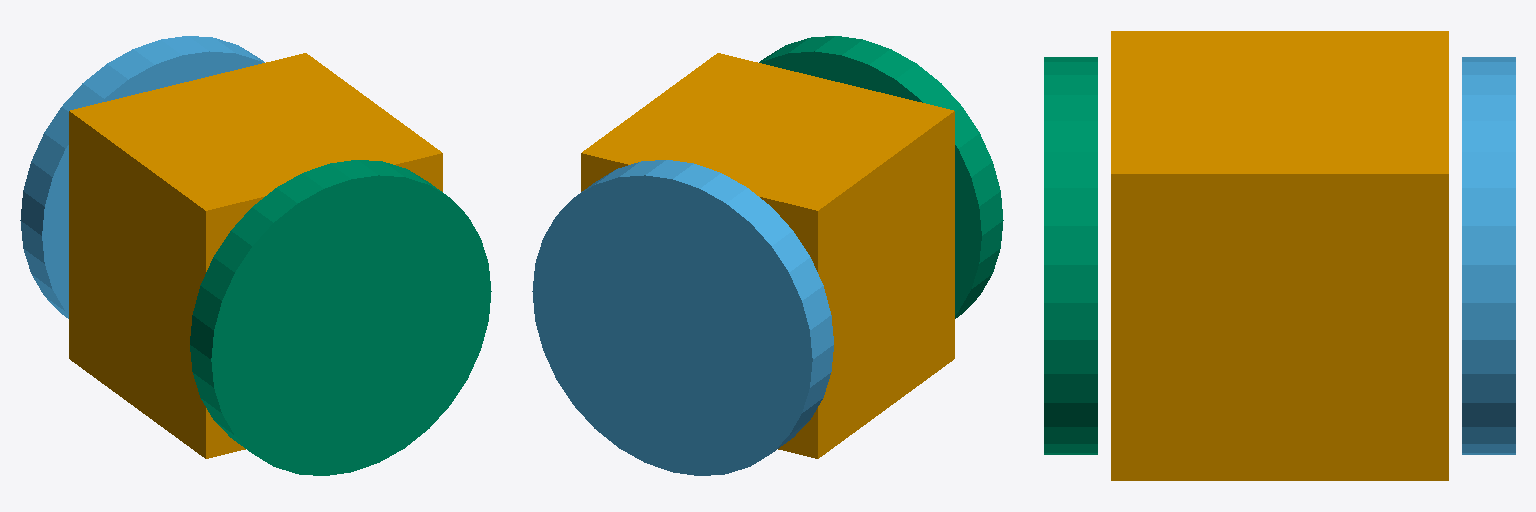
The robot description file, URDF, robot "two_wheel_robot":
<?xml version="1.0"?>

<robot name="two_wheel_robot">


<link name="body_link">
  <inertial>
    <mass value="0.03" />
    <origin xyz="0 0 0.0127" />
    <inertia ixx="0.000032258" ixy="0.0" ixz="0.0"
      iyy="0.000032258" iyz="0.0"
      izz="0.000032258" />
  </inertial>

  <visual>
    <origin xyz="0 0 0.0127" />
    <geometry>
      <box size="0.0254 0.0254 0.0254"/>
    </geometry>
  </visual>

  <collision>
    <origin xyz="0 0 0.0127" />
    <geometry>
      <box size="0.0254 0.0254 0.0254"/>
    </geometry>
  </collision>
</link>

<gazebo reference="body_link">
  <!-- tag name has to be mu1, though in gazebo they are mu and mu2 -->
  <mu1>0.1</mu1>
  <mu2>0.1</mu2>
  <material>Gazebo/Grey</material>
</gazebo>


<link name="left_wheel">
  <inertial>
    <mass value="0.002" />
    <origin xyz="0 0 0.002" />
    <inertia ixx="0.00000005659" ixy="0.0" ixz="0.0"
      iyy="0.00000005659" iyz="0.0"
      izz="0.0000001125" />
  </inertial>

  <visual>
    <origin xyz="0 0 0.002" />
    <geometry>
      <cylinder radius="0.015" length="0.004" />
    </geometry>
  </visual>

  <collision>
    <origin xyz="0 0 0.002" />
    <geometry>
      <cylinder radius="0.015" length="0.004" />
    </geometry>
  </collision>
</link>

<gazebo reference="left_wheel">
  <mu1>100</mu1>
  <mu2>50</mu2>
  <material>Gazebo/Red</material>
</gazebo>


<link name="right_wheel">
  <inertial>
    <mass value="0.002" />
    <origin xyz="0 0 0.002" />
    <inertia ixx="0.00000005659" ixy="0.0" ixz="0.0"
      iyy="0.00000005659" iyz="0.0"
      izz="0.0000001125" />
  </inertial>

  <visual>
    <origin xyz="0 0 0.002" />
    <geometry>
      <cylinder radius="0.015" length="0.004" />
    </geometry>
  </visual>

  <collision>
    <origin xyz="0 0 0.002" />
    <geometry>
      <cylinder radius="0.015" length="0.004" />
    </geometry>
  </collision>
</link>

<gazebo reference="right_wheel">
  <mu1>100</mu1>
  <mu2>50</mu2>
  <material>Gazebo/Blue</material>
</gazebo>


<joint name="left_motor" type="continuous">
  <parent link="body_link" />
  <child link="left_wheel" />
  <!-- <origin xyz="0 -0.0177 0.0127" rpy="-1.5708 0 0" /> -->
  <origin xyz="0 0.0177 0.0127" rpy="1.5708 0 0" />
<!--   this is very weird, the uncommented one is more reasonable
  but the uncommented one demonstrate the right position and rotation in gazebo -->
  <axis xyz="0 0 1" />
</joint>


<joint name="right_motor" type="continuous">
  <parent link="body_link" />
  <child link="right_wheel" />
  <!-- <origin xyz="0 0.0177 0.0127" rpy="1.5708 0 0" /> -->
  <origin xyz="0 -0.0177 0.0127" rpy="-1.5708 0 0" />
  <axis xyz="0 0 1" />
</joint>


</robot>

--- What the picture shows (computed from the rendered views, not written in the file) ---
Views: 3 orthographic renders of the robot side by side, from view 1: azimuth 30°, elevation 25°; view 2: azimuth 150°, elevation 25°; view 3: azimuth 270°, elevation 25°.
Robot: two_wheel_robot — 3 links, 2 joints (2 continuous); root link body_link; default pose: all joints at 0.
Visible links, largest first — view 1: right_wheel, body_link, left_wheel; view 2: left_wheel, body_link, right_wheel; view 3: body_link, left_wheel, right_wheel.
Link boxes in pixels (x1=…): right_wheel: x1=190, y1=160, x2=491, y2=475; body_link: x1=69, y1=53, x2=442, y2=458; left_wheel: x1=20, y1=36, x2=264, y2=318; left_wheel: x1=532, y1=160, x2=833, y2=475; body_link: x1=581, y1=53, x2=954, y2=458; right_wheel: x1=759, y1=36, x2=1003, y2=318; body_link: x1=1111, y1=31, x2=1448, y2=480; left_wheel: x1=1462, y1=57, x2=1515, y2=454; right_wheel: x1=1044, y1=57, x2=1097, y2=454.
Size in the robot's own frame: 0.03 by 0.0354 by 0.03 metres.
Geometry: primitives only (box / cylinder / sphere), no mesh files.